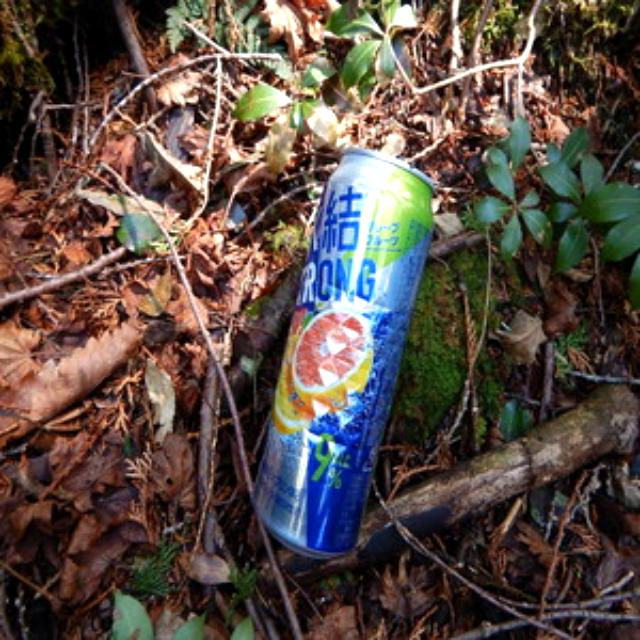Metal: (254, 143, 436, 561)
